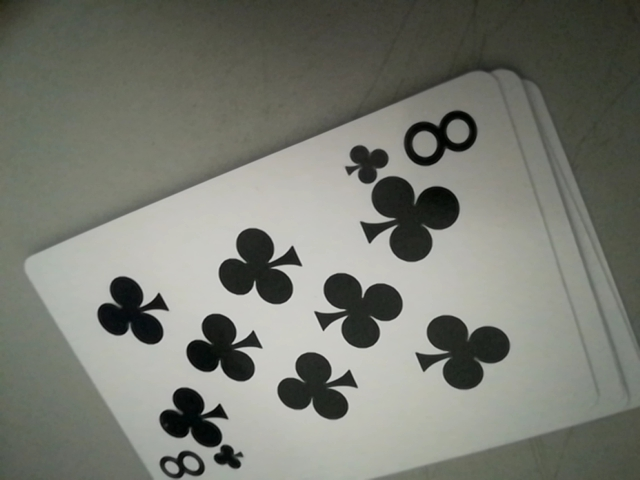mh 8: (344, 100, 488, 179), (152, 444, 245, 480)
